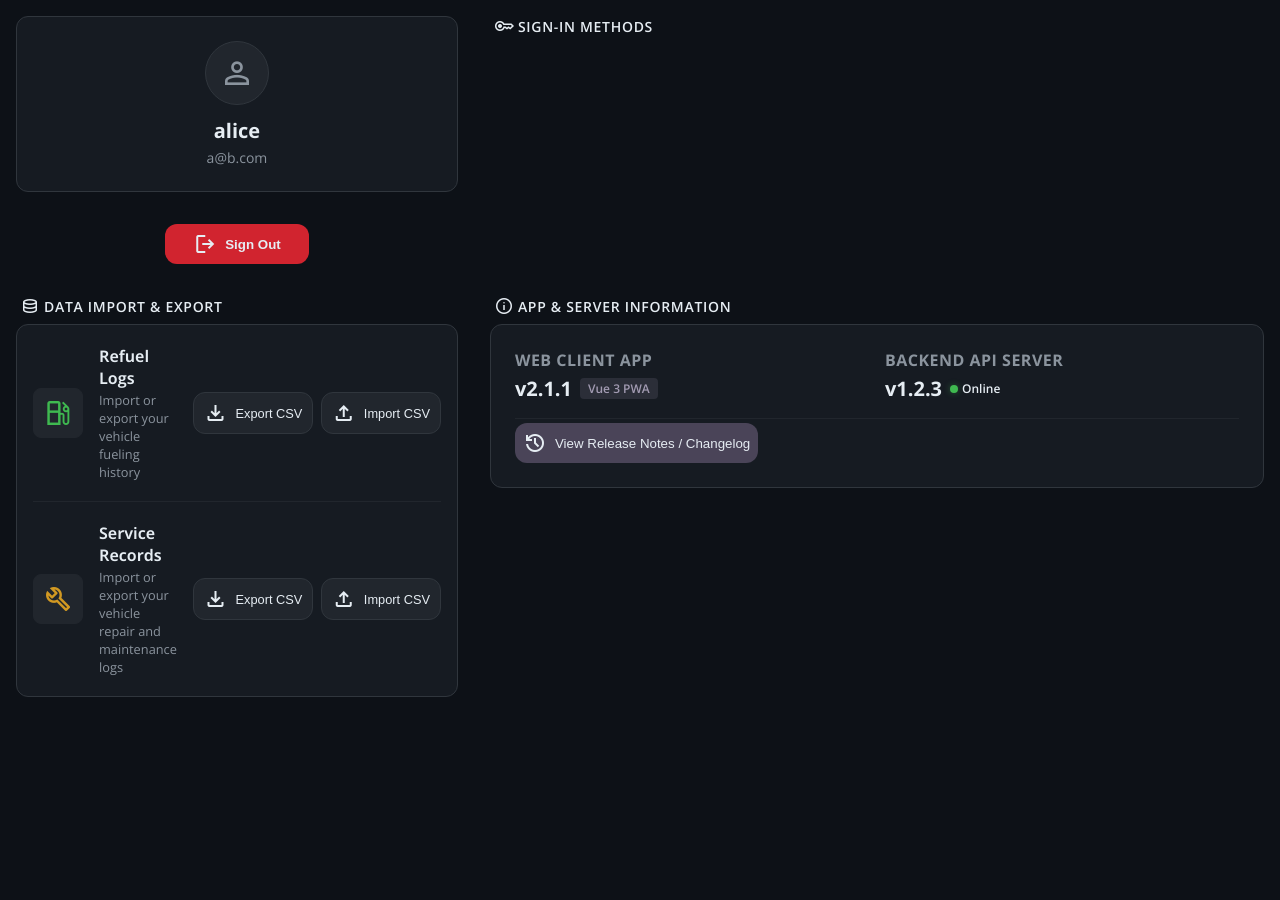
Scenario: SettingsView › export › group 0 downloads the CSV for the default vehicle
Click the button "Export CSV" below "Refuel Logs" at (253, 413), box x1=193 y1=392 x2=313 y2=434
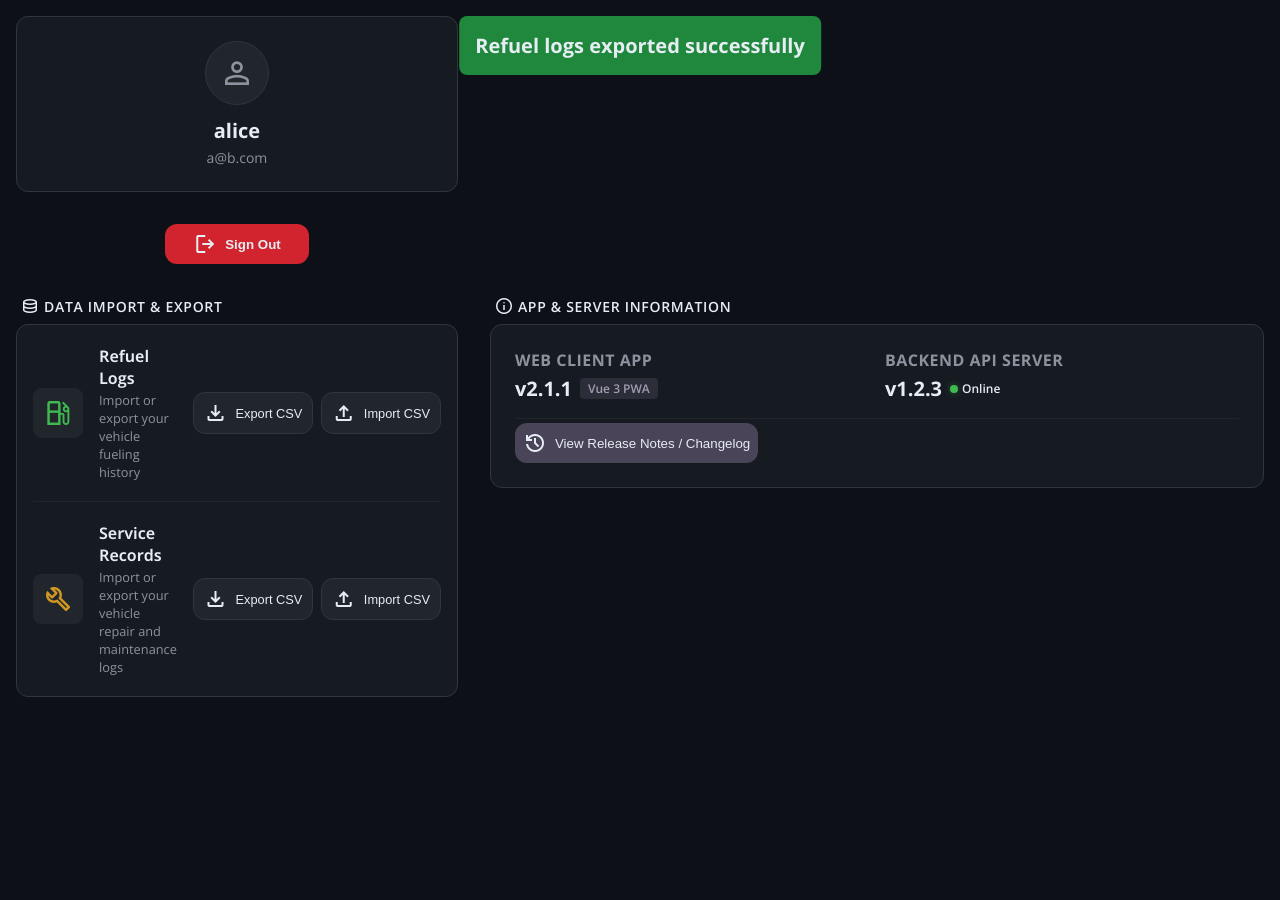
Expected: the text "Refuel logs exported successfully" is shown, x1=475 y1=32 x2=805 y2=59
